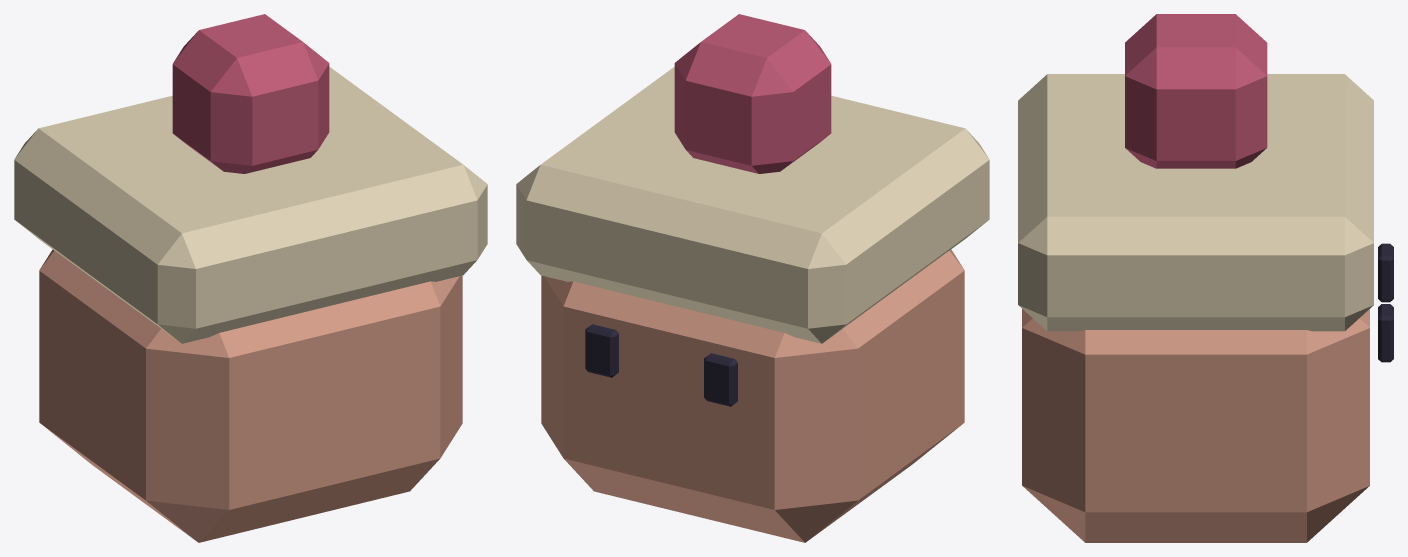
File: cake.glb
3 views of the same model, side by side, from view 1: azimuth 30°, elevation 25°; view 2: azimuth 150°, elevation 25°; view 3: azimuth 270°, elevation 25° (orthographic). The views are drawn at different scales.
Visible parts, largest first — view 1: Toy; view 2: Toy; view 3: Toy.
Boxes of the visible parts, x1,y1,x2,y2 form: Toy: (14,14,487,542); Toy: (516,14,989,542); Toy: (1018,14,1393,542).
Bounding box in the file's own units: 0.5 × 0.64 × 0.475.
